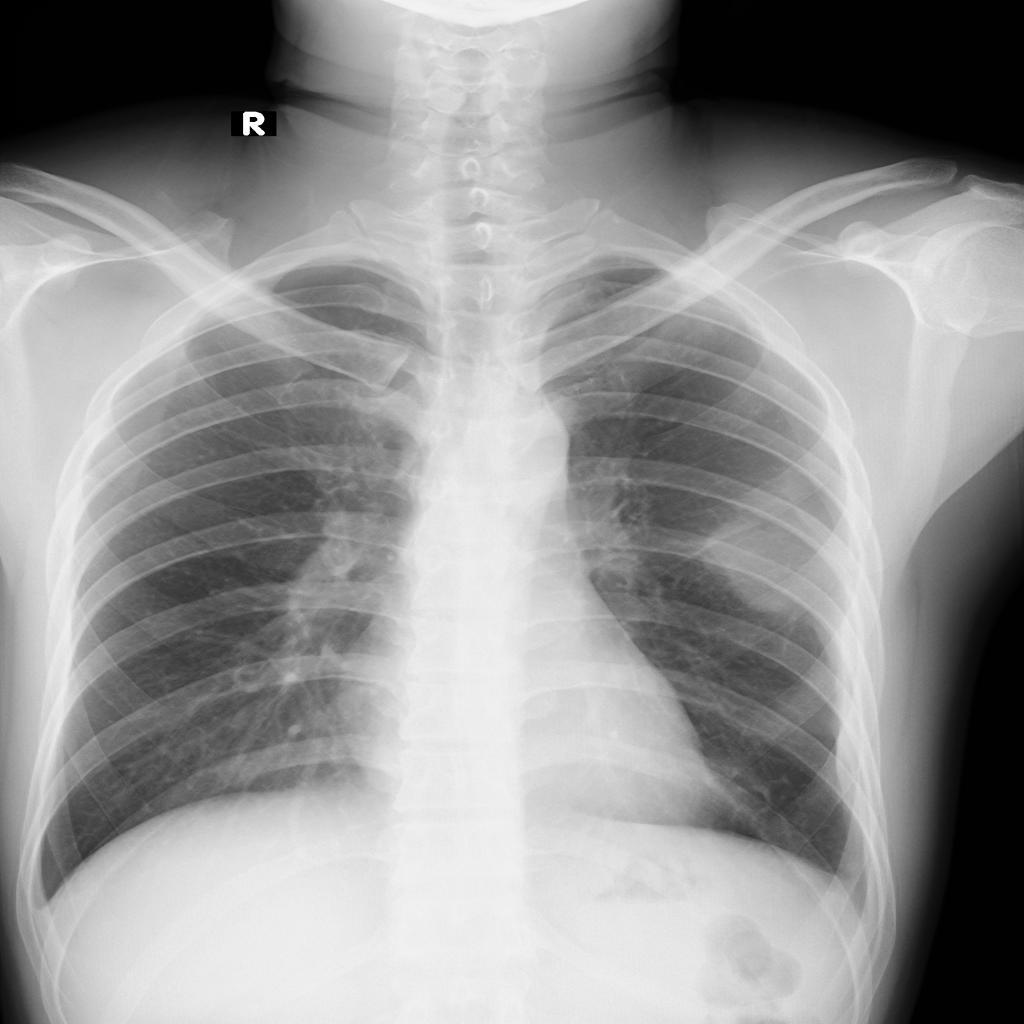Nodule: (701, 519, 845, 618)
